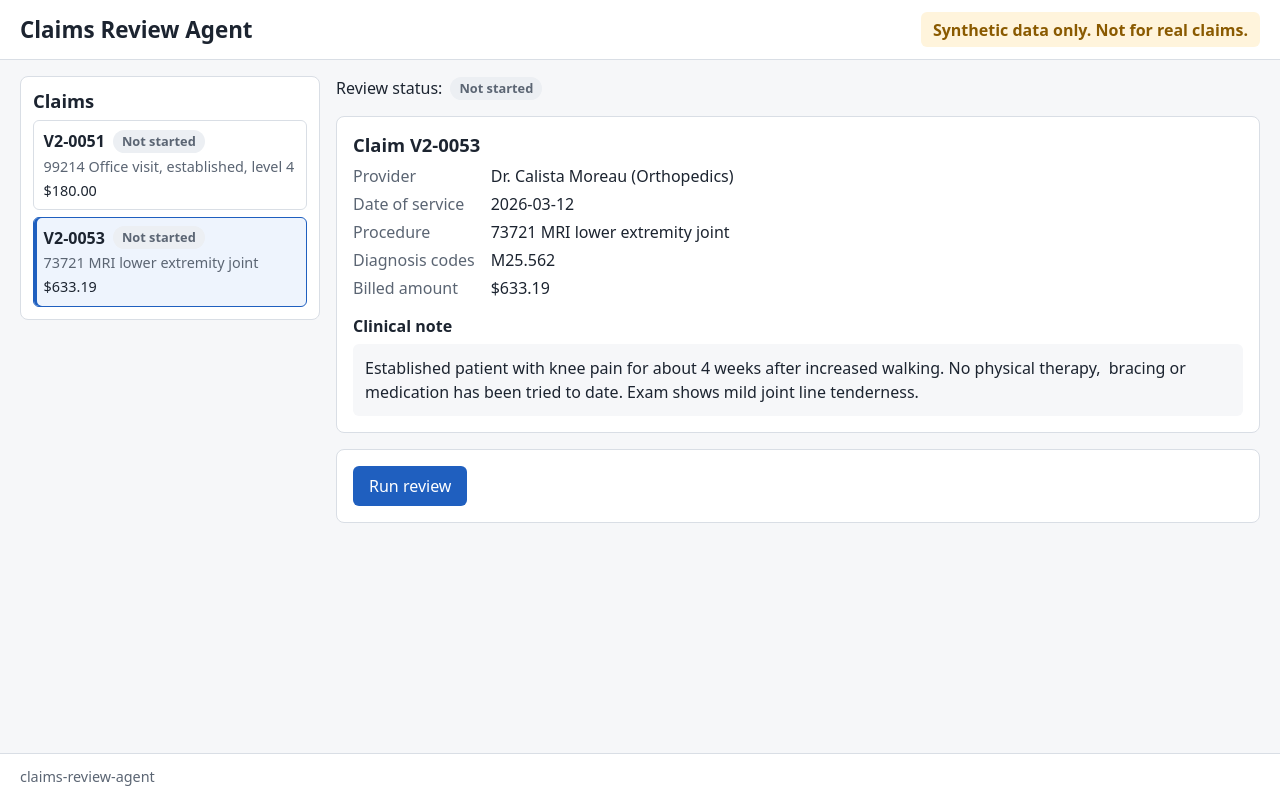
App › shows the server message when the API key is missing (503)
The width and height of the screenshot is (1280, 800).
Click the button "Run review" at x=410, y=486, box [353,466,467,506]
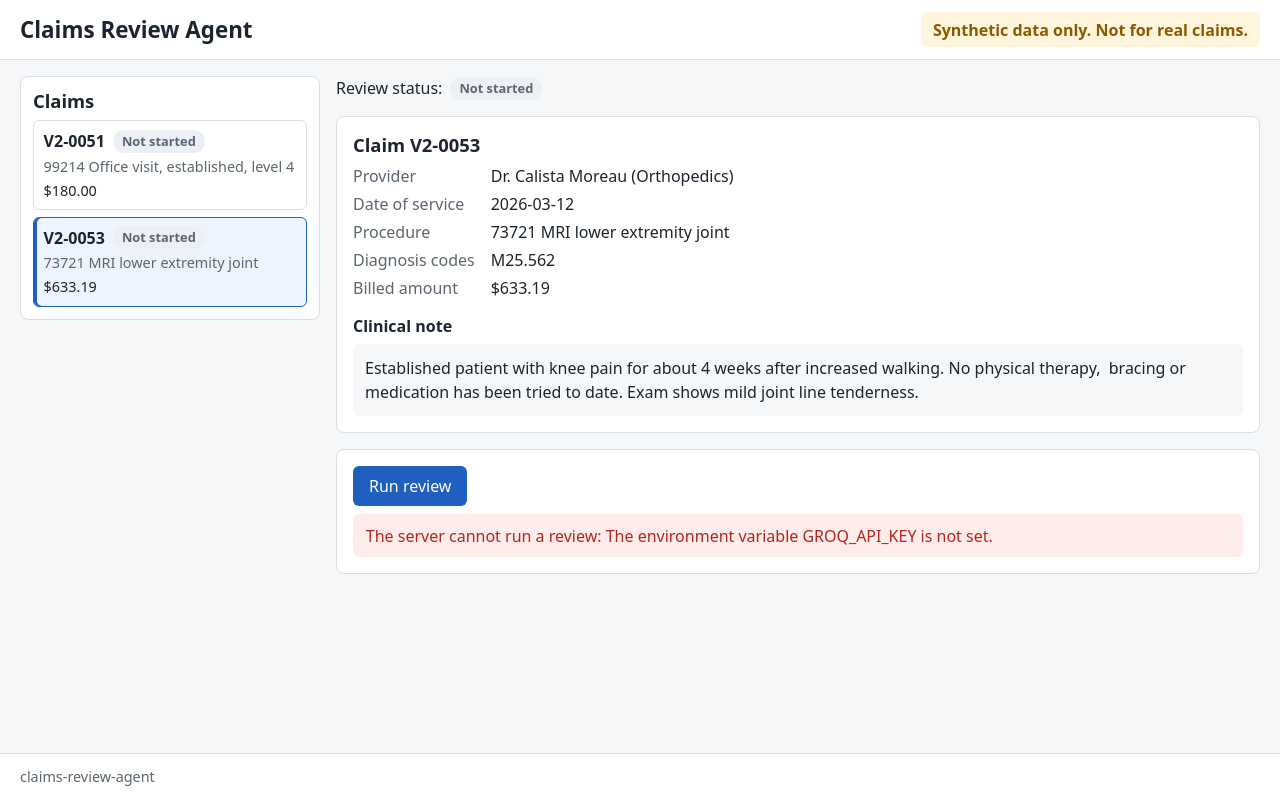
Expected: the message shows "The server cannot run a review: The environment variable GROQ_API_KEY is not set.", [366,525,993,547]
